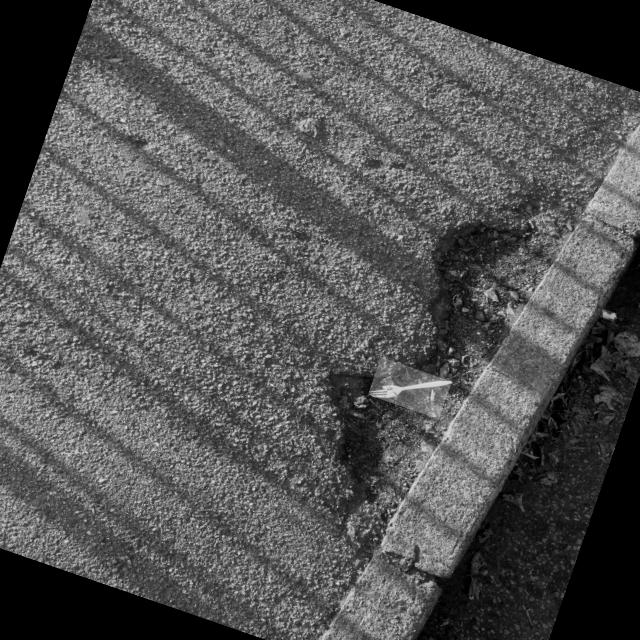Other container: (369, 381, 451, 398)
Unlabeled litter: (602, 310, 616, 320)
